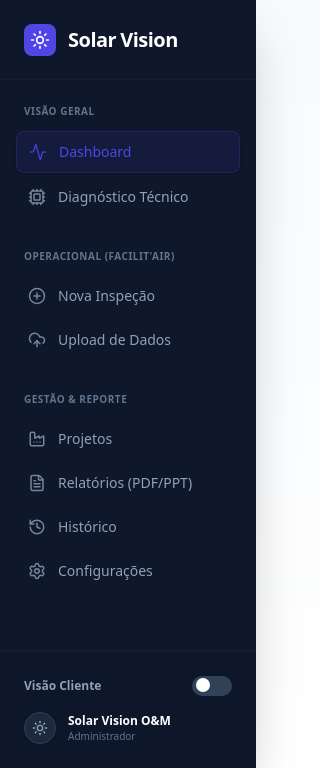
Sidebar Restrictions (Client vs Operator) › Um CLIENTE de visualização restrita NÃO DEVE enxergar menus gerenciais (TDD Regra 3)
Identificar e clicar no Toggle de "Visão Cliente"
Click the button named "Alternar modo de visão": [212, 686] box [192,676,232,696]
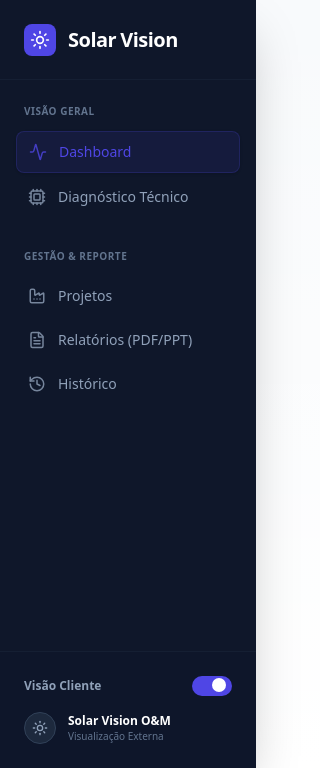
Check: the link "Nova Inspeção" is gone
Check: the link "Upload de Dados" is gone
Check: the link "Configurações" is gone
